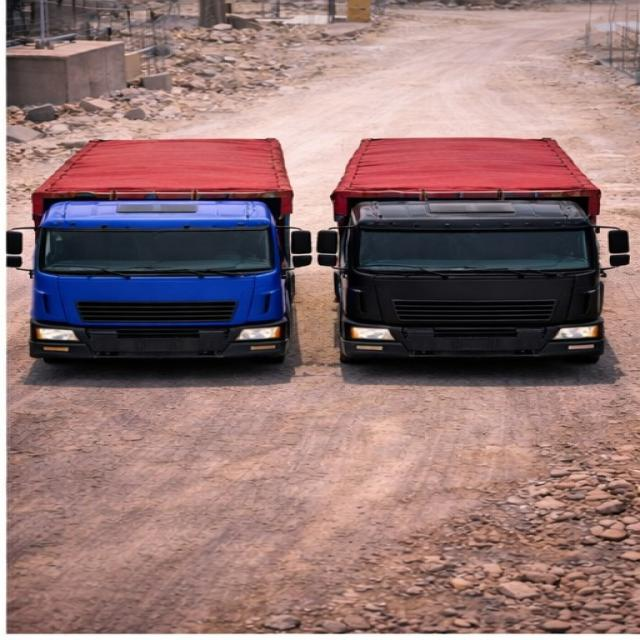Box: (336, 134, 594, 191), (37, 138, 289, 193)
Truck: (315, 126, 639, 370), (8, 130, 313, 359)
